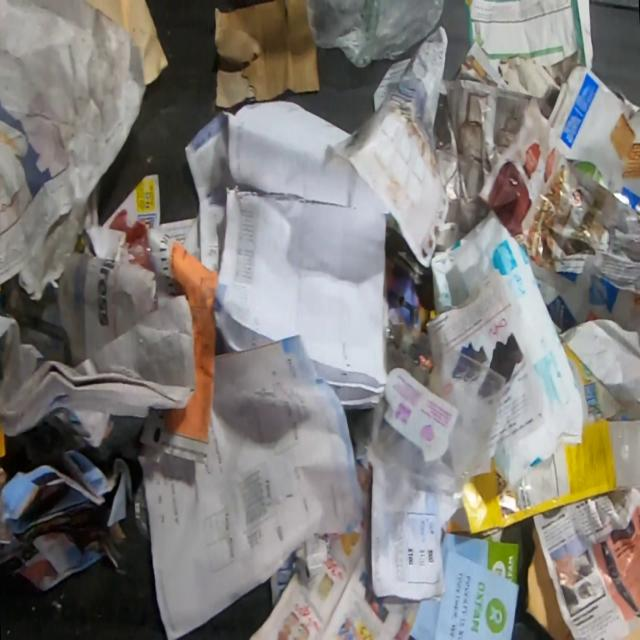cardboard: (460, 339, 640, 535), (546, 63, 640, 214), (212, 0, 322, 109), (530, 246, 640, 336), (523, 521, 574, 640)
rigid_plastic: (367, 317, 508, 494), (133, 476, 151, 543)
soft_plastic: (305, 0, 446, 68)
